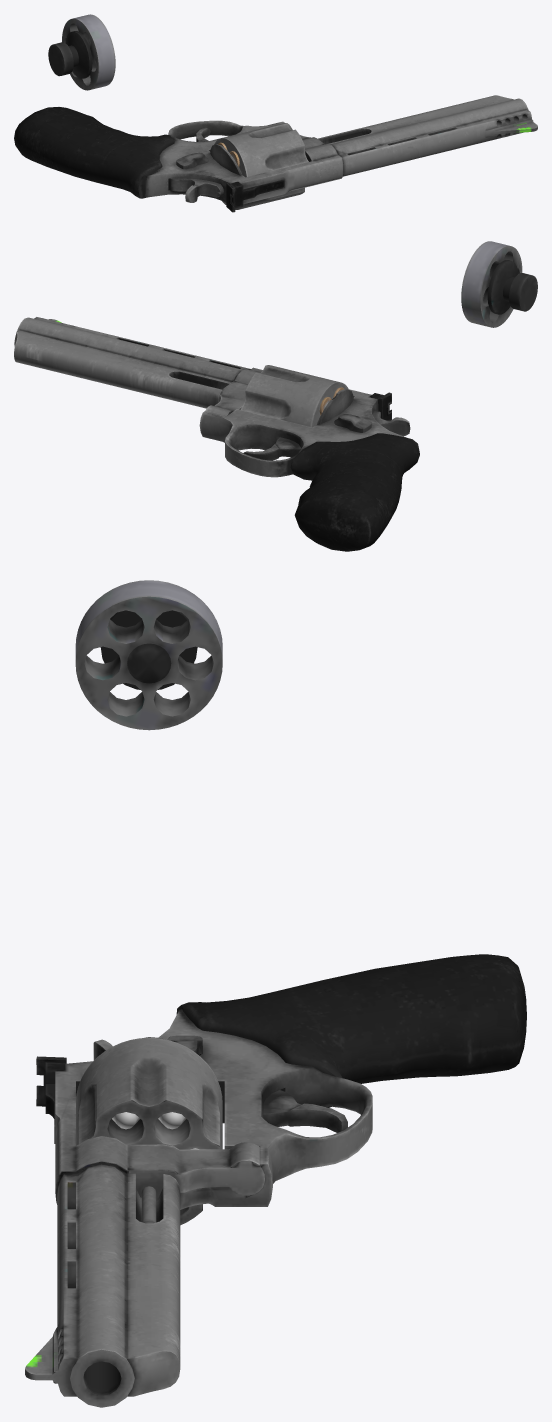
The model's file is Magnum.glb.
The picture shows the model from 3 angles, top to bottom: view 1: azimuth 30°, elevation 25°; view 2: azimuth 150°, elevation 25°; view 3: azimuth 270°, elevation 25°; orthographic projection. The views are drawn at different scales.
Visible parts, largest first — view 1: Magnum_upd, Magnum_upd_Speedloader, Magnum_upd_Flippy; view 2: Magnum_upd, Magnum_upd_Flippy, Magnum_upd_Speedloader; view 3: Magnum_upd, Magnum_upd_Flippy, Magnum_upd_Speedloader.
Boxes of the visible parts, <box> form: Magnum_upd: <box>14,95,537,212</box>; Magnum_upd_Speedloader: <box>48,14,115,90</box>; Magnum_upd_Flippy: <box>214,123,324,209</box>; Magnum_upd: <box>14,317,419,551</box>; Magnum_upd_Flippy: <box>205,365,348,427</box>; Magnum_upd_Speedloader: <box>461,241,537,327</box>; Magnum_upd: <box>25,954,526,1407</box>; Magnum_upd_Flippy: <box>76,1037,264,1225</box>; Magnum_upd_Speedloader: <box>75,580,222,730</box>.
Size of the model in its own units: 0.3048 by 0.1428 by 0.1458.
Materials: 1 (1 with a texture image).
